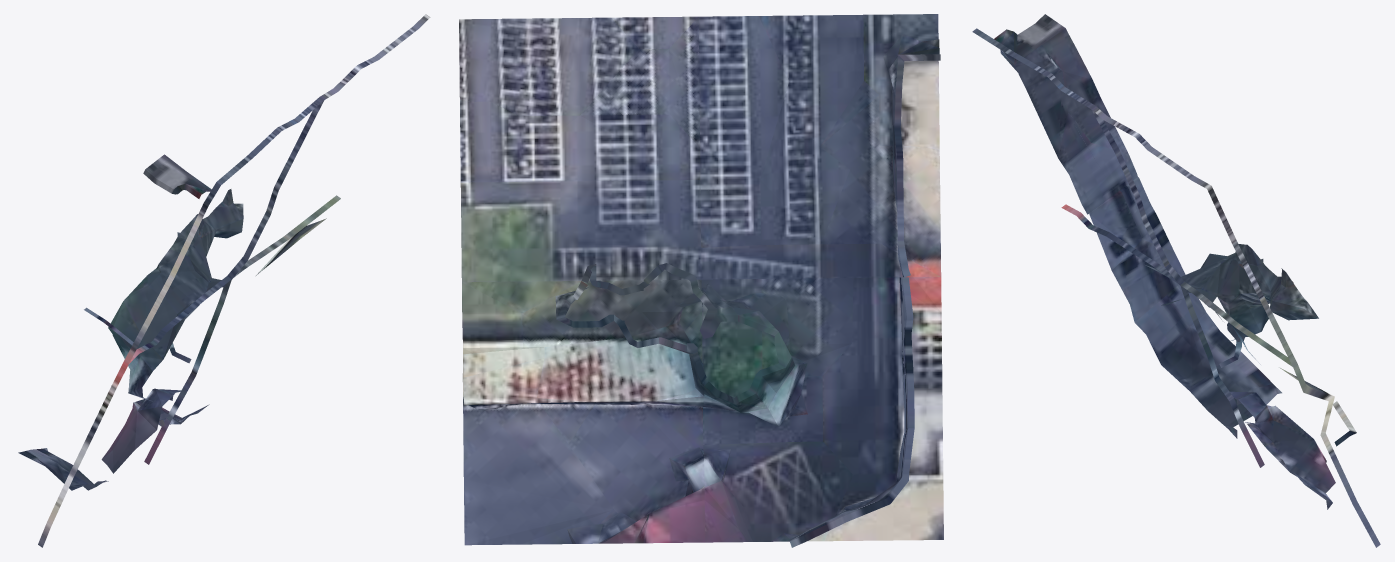
3 views of the same model, side by side, from view 1: azimuth 30°, elevation 25°; view 2: azimuth 150°, elevation 25°; view 3: azimuth 270°, elevation 25° (orthographic). The views are drawn at different scales.
Bounding box in the file's own units: 37.88 × 35.07 × 31.96.
1 material, 1 textured.
